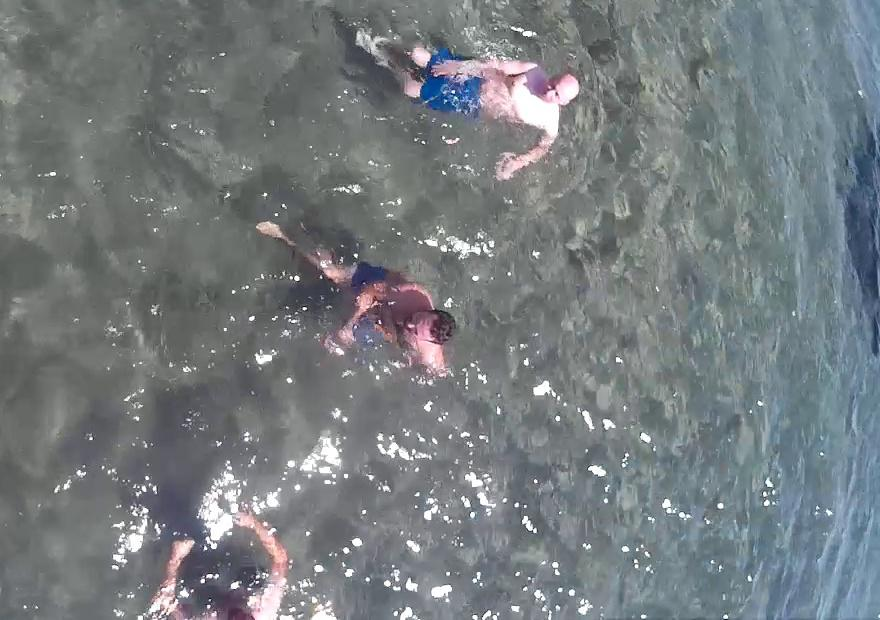swimmer: (354, 0, 578, 192), (254, 190, 452, 398)
